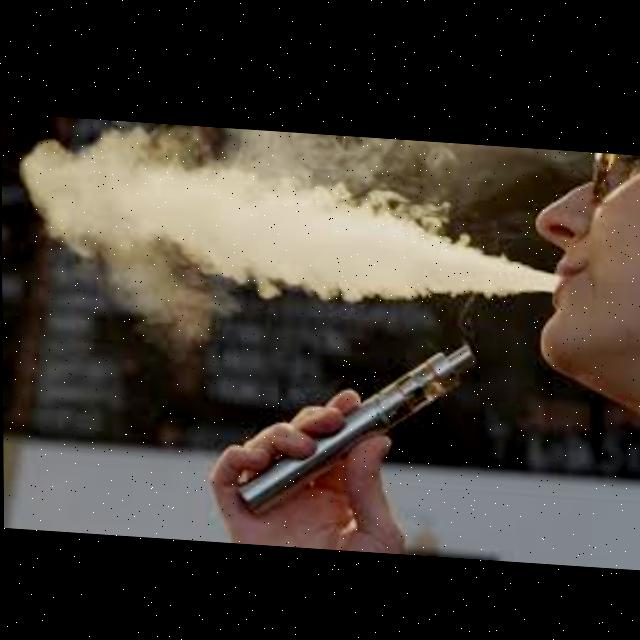vape: (235, 321, 480, 524)
